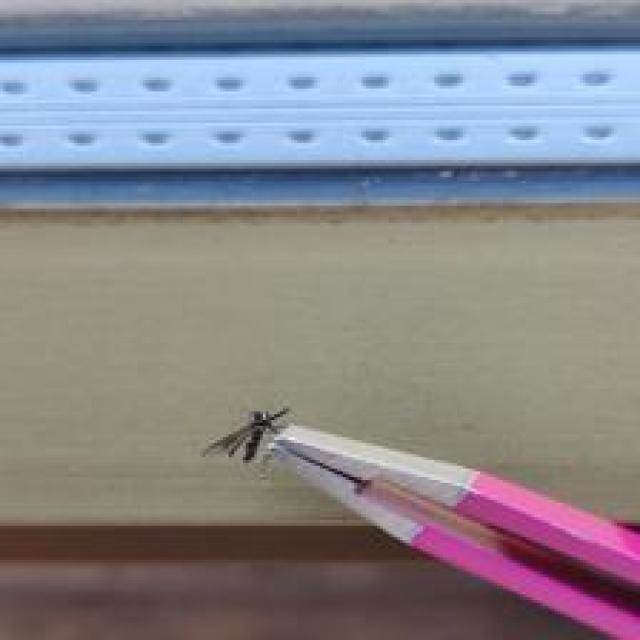Aedes albopictus: (200, 403, 640, 640)
